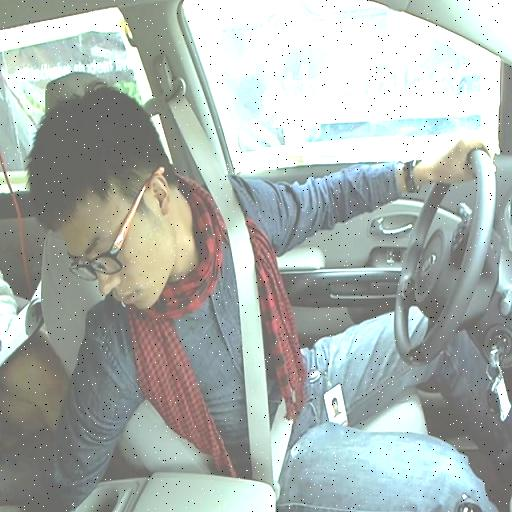turning: (32, 84, 492, 432)
